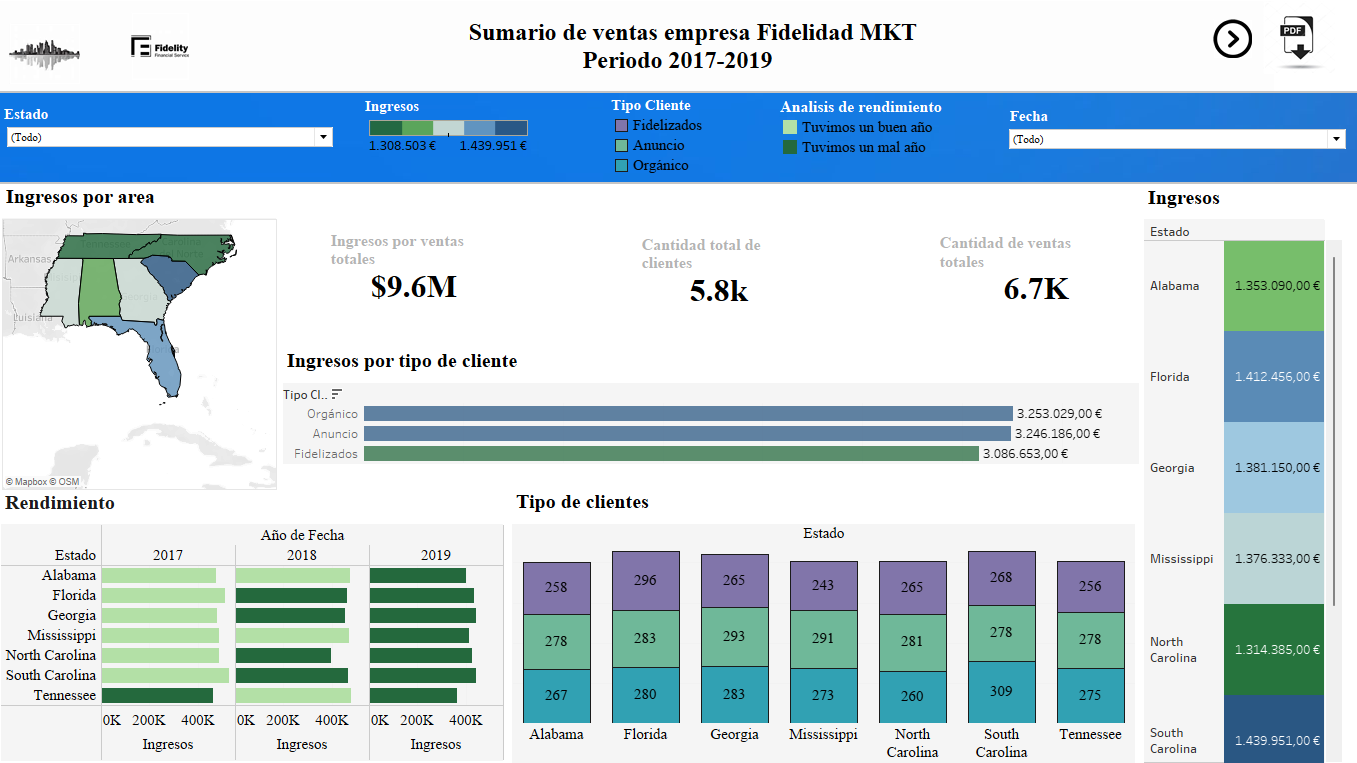

This screenshot's page, from the dashboard's own definition file:
{"tool":"tableau","page":{"name":"Dashboard 1","canvas":[1366,768],"ordinal":0},"visuals":[{"type":"dashboard-object","box":[1240,3,127,73]},{"type":"blank","box":[0,5,1155,54]},{"type":"image","param":"Image/descarga (1).jpg","box":[134.8,13.8,57.9,76.4]},{"type":"text","box":[469.5,13.8,625.6,68.9]},{"type":"dashboard-object","box":[1210,21,53,39]},{"type":"image","param":"Image/OIP (2).jpg","box":[13,25.1,101.7,61.4]},{"type":"blank","box":[1.2,94,1364.8,52.6]},{"type":"legend","title":"Hoja 13","param":"[federated.1efi7ni1f19sgs1bgq0h21dpx216].[none:Tipo Cliente:nk]","box":[615,99,452,79]},{"type":"legend","title":"Hoja 12","param":"[federated.1efi7ni1f19sgs1bgq0h21dpx216].[sum:Ingresos:qk]","box":[369,100,167,71]},{"type":"legend","title":"if_suma","param":"[federated.1efi7ni1f19sgs1bgq0h21dpx216].[usr:Calculation_683421307607322625:nk]","box":[784,100,185,83]},{"type":"filter","title":"Hoja 12","param":"[federated.1efi7ni1f19sgs1bgq0h21dpx216].[none:Estado:nk]","box":[8,108,332,196]},{"type":"filter","title":"Hoja 12","param":"[federated.1efi7ni1f19sgs1bgq0h21dpx216].[tyr:Fecha:ok]","box":[1010,110,343,48]},{"type":"text","box":[643,221,166,107]},{"type":"text","box":[332,222,248,97]},{"type":"text","box":[520,233,100,30]},{"type":"text","box":[941,236,142,74]},{"type":"worksheet","title":"Hoja 15","mark":"Bar","rows":["Tipo Cliente"],"cols":["Ingresos"],"box":[282,348,856,126]},{"type":"worksheet","title":"Hoja 13","mark":"Automatic","rows":["Tipo Cliente"],"cols":["Estado"],"box":[516,488,623,277]}]}

Visuals, with their boxes in screenshot pixels (x1, y1, x2, y2), scaled from the page's 1366x768 canvas onto the 1357x763 screenshot:
dashboard-object: <box>1232,3,1356,76</box>
blank: <box>0,5,1147,59</box>
image: <box>134,14,191,90</box>
text: <box>466,14,1088,82</box>
dashboard-object: <box>1202,21,1255,60</box>
image: <box>13,25,114,86</box>
blank: <box>1,93,1356,146</box>
"Hoja 13" legend: <box>611,98,1060,177</box>
"Hoja 12" legend: <box>367,99,532,170</box>
"if_suma" legend: <box>779,99,963,182</box>
"Hoja 12" filter: <box>8,107,338,302</box>
"Hoja 12" filter: <box>1003,109,1344,157</box>
text: <box>639,220,804,326</box>
text: <box>330,221,576,317</box>
text: <box>517,231,616,261</box>
text: <box>935,234,1076,308</box>
"Hoja 15" worksheet (Bar marks): <box>280,346,1131,471</box>
"Hoja 13" worksheet: <box>513,485,1131,760</box>
